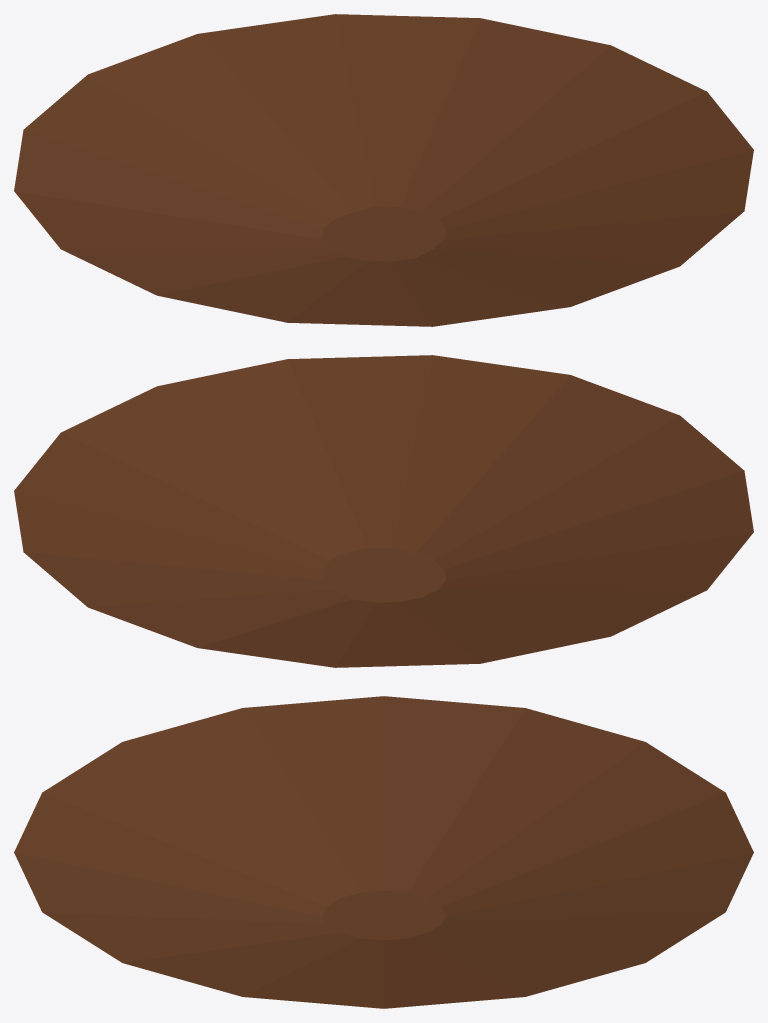
Rendered from tablebowl02.gltf.
3 views of the same model, one above another, from view 1: azimuth 30°, elevation 25°; view 2: azimuth 150°, elevation 25°; view 3: azimuth 270°, elevation 25° (orthographic).
Parts seen in each view (by area): view 1: Cylinder.001; view 2: Cylinder.001; view 3: Cylinder.001.
Part boxes in pixels (left/top/right/bottom): Cylinder.001: left=14, top=14, right=753, bottom=326; Cylinder.001: left=14, top=355, right=753, bottom=667; Cylinder.001: left=14, top=696, right=753, bottom=1008.
Bounding box in the file's own units: 0.3526 × 0.04 × 0.3526.
1 material, 1 textured.
